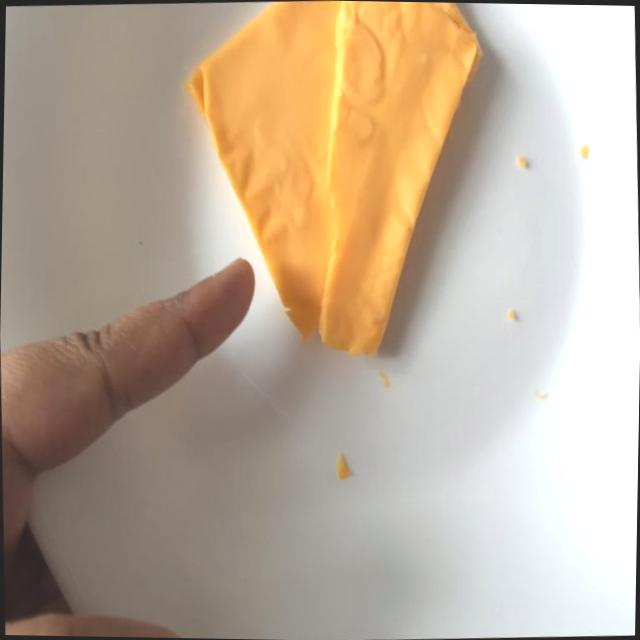Cheese: (178, 0, 500, 376)
Finger: (111, 247, 265, 413)
